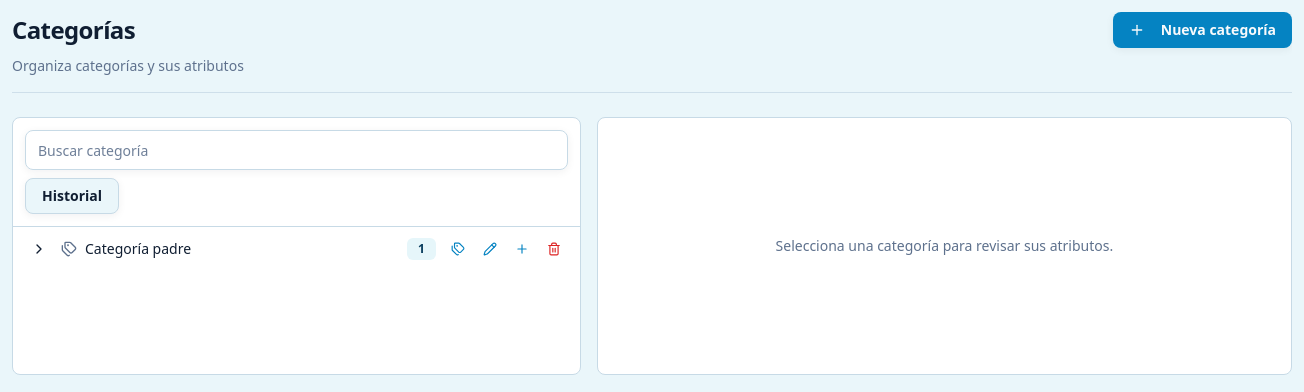
Scenario: CategoriasPage › mueve el foco al padre activo y actualiza los atributos después de eliminar la seleccionada
The image size is (1304, 392).
Click the button named "Expandir Categoría padre". click: (39, 249)
box: [25,235,53,263]
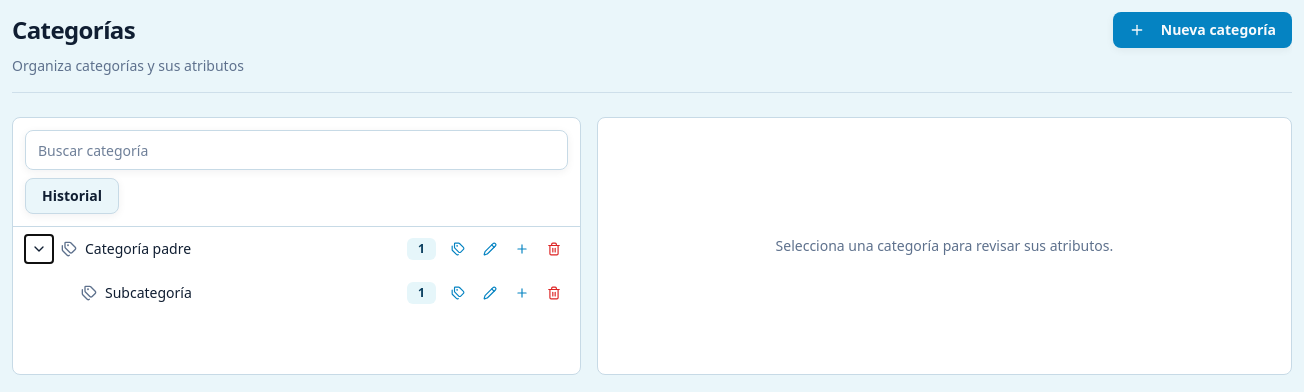
Click the button "Subcategoría". click: (148, 292)
box: [105,283,399,303]
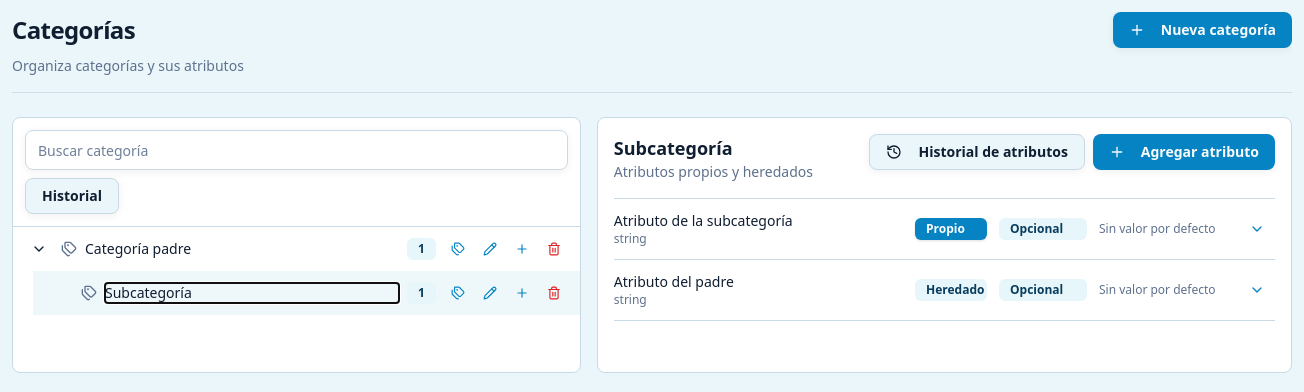
Expected: the text "Atributos propios y heredados" is shown, [614,162,813,181]
Expected: the heading "Subcategoría" is shown, [614,136,733,160]
Expected: the text "Atributo de la subcategoría" is shown, [614,211,793,230]
Click the 2nd button titled "Dar de baja categoría". click: (554, 293)
box: [540,279,568,307]
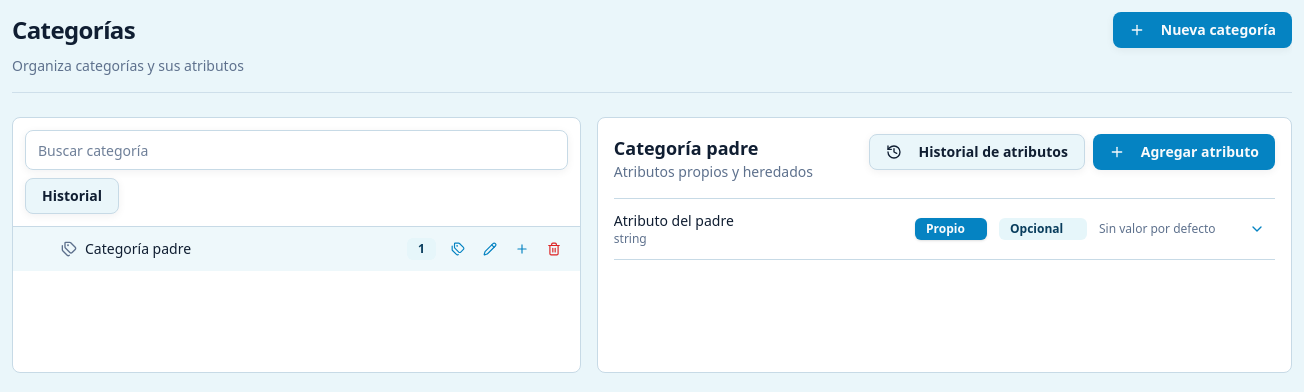
Expected: the text "Atributo del padre" is shown, [614,211,734,230]
Expected: the heading "Categoría padre" is shown, [614,136,758,160]
Expected: the text "Atributo de la subcategoría" is gone
